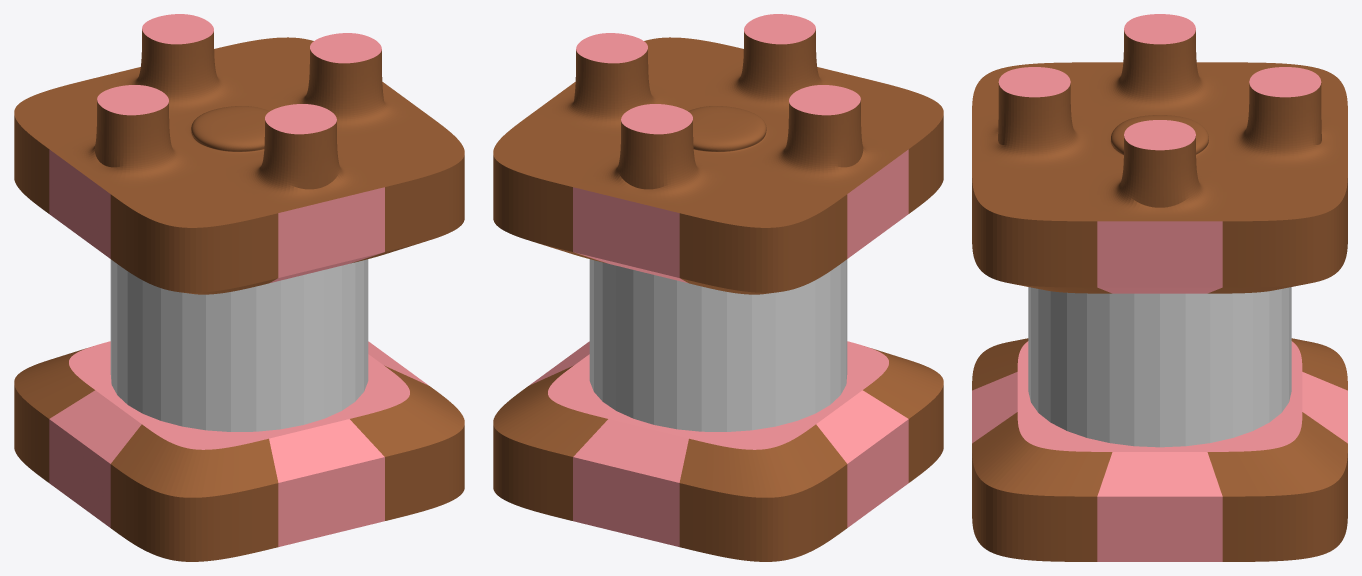
Rendered from Generador1.fbx.
3 renders of one model, left to right at view 1: azimuth 30°, elevation 25°; view 2: azimuth 150°, elevation 25°; view 3: azimuth 270°, elevation 25°, orthographic.
Parts seen in each view (by area): view 1: Bases, Vidrio; view 2: Bases, Vidrio; view 3: Bases, Vidrio.
Boxes of the visible parts, x1,y1,x2,y2 form: Bases: [14, 14, 464, 561]; Vidrio: [110, 259, 368, 431]; Bases: [493, 14, 943, 561]; Vidrio: [589, 259, 847, 431]; Bases: [972, 14, 1347, 561]; Vidrio: [1028, 287, 1291, 447].
Size of the model in its own units: 200 by 235 by 200.
